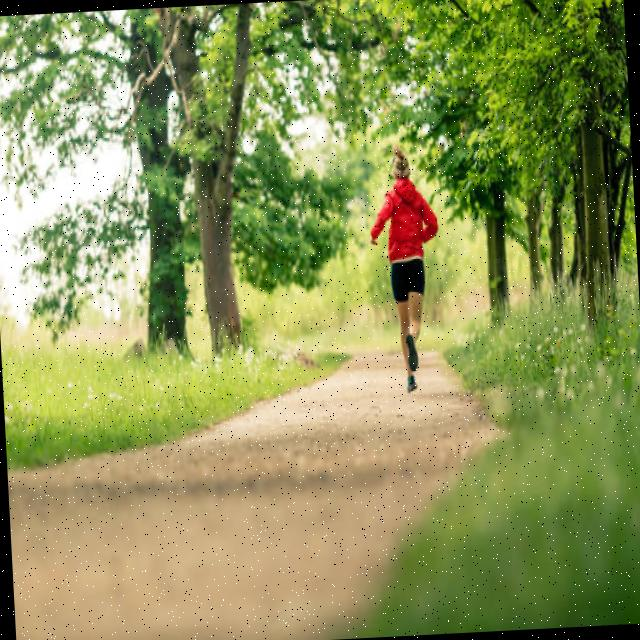Person: (366, 154, 446, 394)
